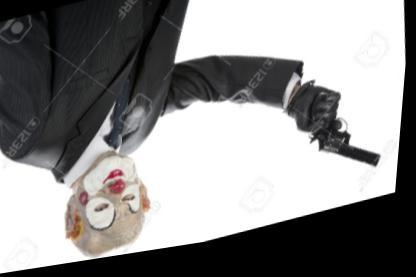pistol: (301, 85, 394, 195)
